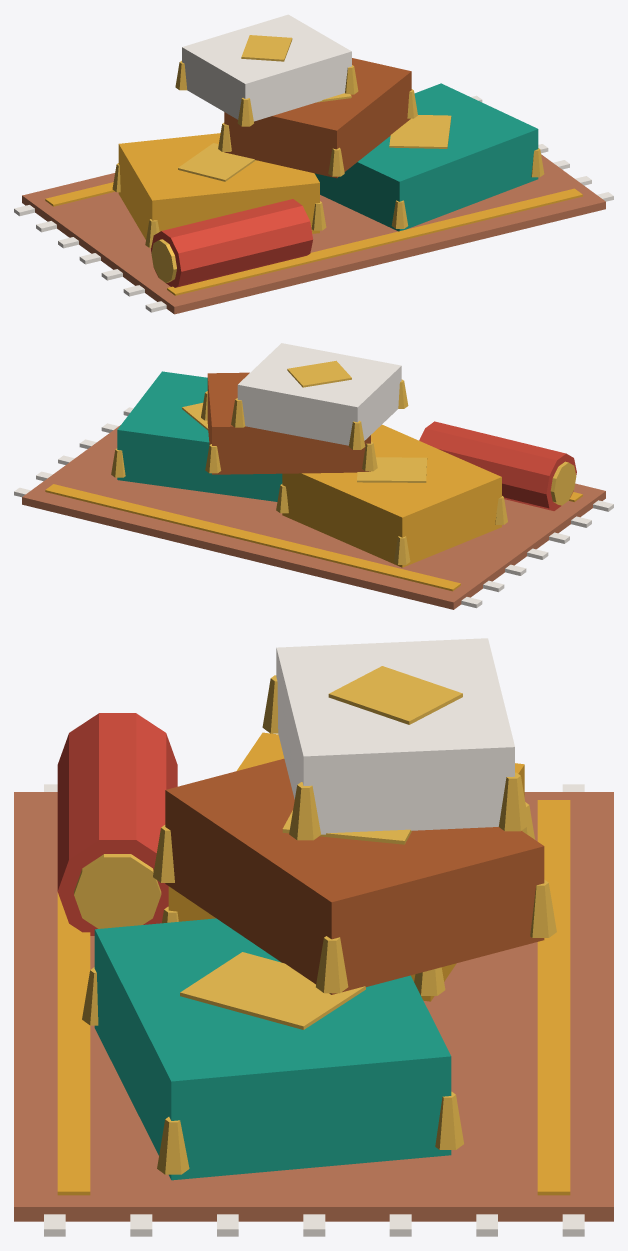
The model's file is CatCafe_Decor_CushionPile.glb.
The picture shows the model from 3 angles, top to bottom: view 1: azimuth 30°, elevation 25°; view 2: azimuth 150°, elevation 25°; view 3: azimuth 270°, elevation 25°; orthographic projection. The views are drawn at different scales.
Parts seen in each view (by area): view 1: CatCafe_Decor_CushionPile; view 2: CatCafe_Decor_CushionPile; view 3: CatCafe_Decor_CushionPile.
Part boxes in pixels (left/top/right/bottom): CatCafe_Decor_CushionPile: left=14, top=14, right=613, bottom=314; CatCafe_Decor_CushionPile: left=14, top=343, right=613, bottom=609; CatCafe_Decor_CushionPile: left=14, top=638, right=613, bottom=1236.
Size of the model in its own units: 3.86 by 1.19 by 2.2.
Materials: 1 (1 with a texture image).
